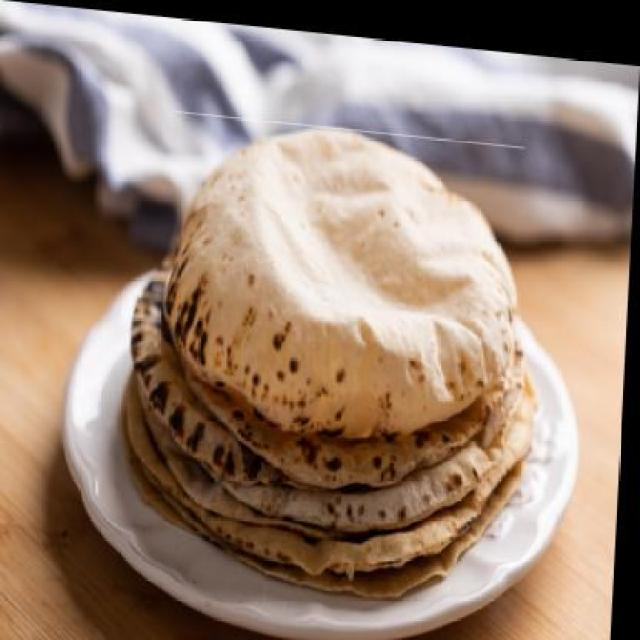chapati: (164, 107, 527, 442)
